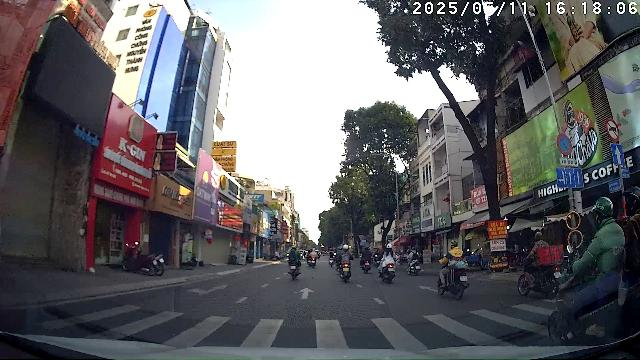131a-cam-do-xe: (556, 133, 572, 155)
